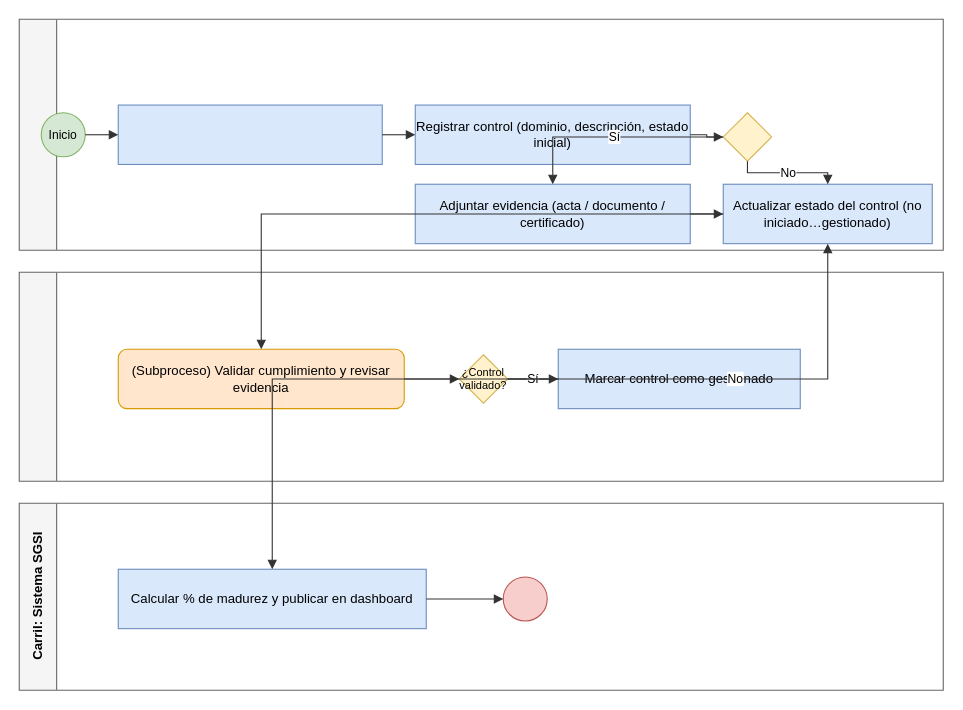
This 963x710 diagram has some shape labels left out. The box of each missing label's shape, as (x1, y1, x2, y2) in pixels:
Carril: Encargado de Ciberseguridad: (18, 18, 943, 250)
Carril: Referente Técnico / Dirección: (18, 271, 943, 481)
Fin: (502, 576, 547, 621)
Identificar control del Anexo A a registrar: (117, 104, 382, 164)
¿Existe evidencia?: (722, 112, 772, 161)
